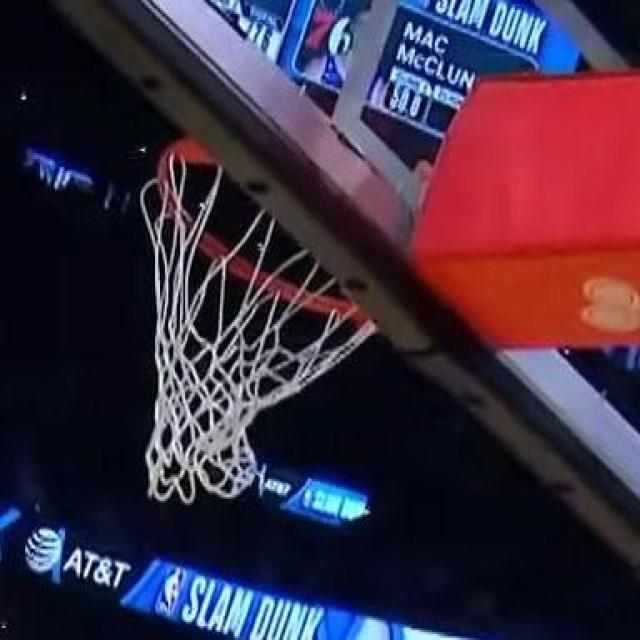hoop: (118, 139, 375, 512)
